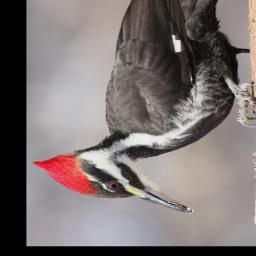Woodpecker: (32, 0, 256, 217)
